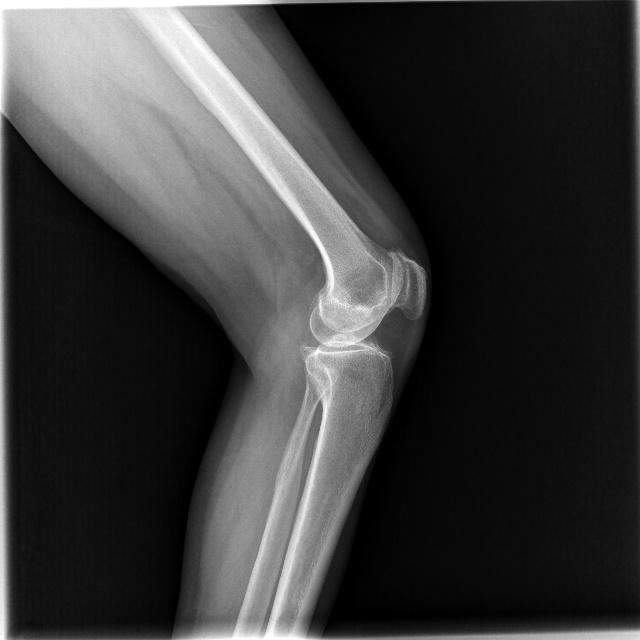Knee: (302, 236, 429, 403)
